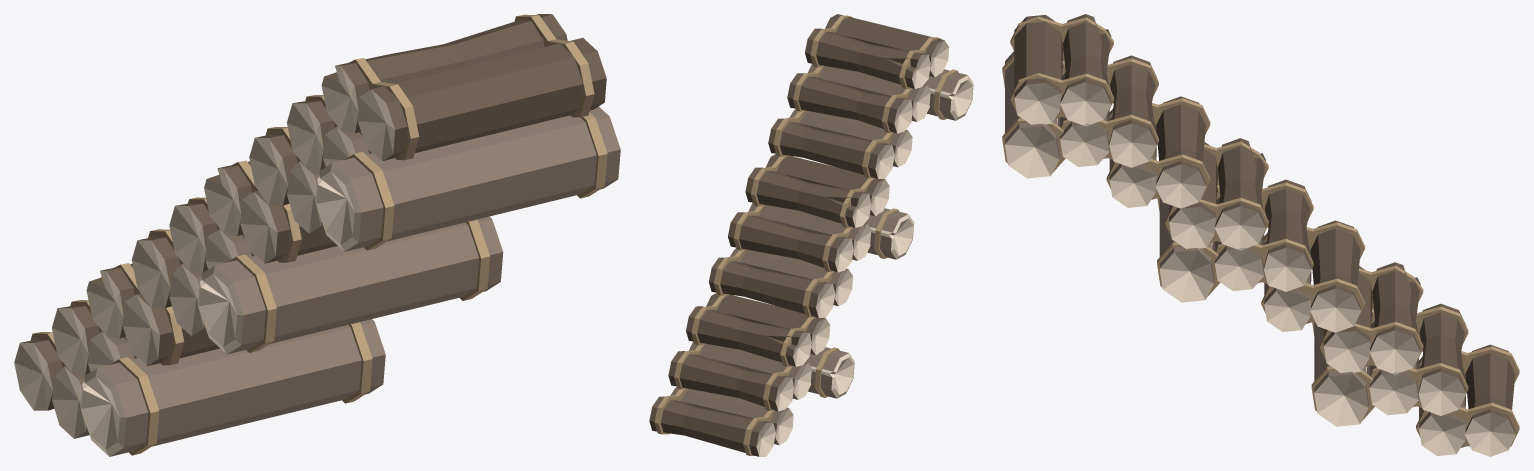
The model's file is STAIRS_FULL.fbx.
3 views of the same model, side by side, from view 1: azimuth 30°, elevation 25°; view 2: azimuth 150°, elevation 25°; view 3: azimuth 270°, elevation 25° (orthographic). The views are drawn at different scales.
Visible parts, largest first — view 1: STAIRS_PART_03, STAIRS_PART_02, STAIRS_PART_01; view 2: STAIRS_PART_03, STAIRS_PART_01, STAIRS_PART_02; view 3: STAIRS_PART_03, STAIRS_PART_02, STAIRS_PART_01.
Part boxes in pixels (bbox=[...]): STAIRS_PART_03: bbox=[249, 14, 620, 251]; STAIRS_PART_02: bbox=[131, 160, 503, 354]; STAIRS_PART_01: bbox=[14, 263, 385, 456]; STAIRS_PART_03: bbox=[768, 14, 973, 178]; STAIRS_PART_01: bbox=[649, 293, 854, 456]; STAIRS_PART_02: bbox=[709, 154, 914, 317]; STAIRS_PART_03: bbox=[1002, 14, 1210, 208]; STAIRS_PART_02: bbox=[1157, 138, 1364, 332]; STAIRS_PART_01: bbox=[1311, 262, 1519, 456].
Bounding box in the file's own units: 156 × 326 × 405.
